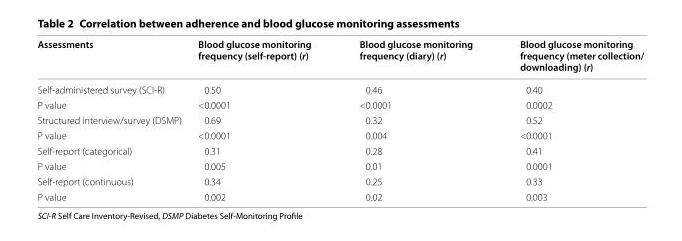table: (36, 37, 643, 202)
table column: (334, 37, 495, 202), (36, 37, 189, 202), (495, 37, 643, 202), (189, 37, 334, 202)
table column header: (36, 37, 643, 77)
table row: (36, 37, 643, 77), (36, 77, 643, 96), (36, 96, 643, 112), (36, 142, 643, 158), (36, 112, 643, 127), (36, 127, 643, 142), (36, 158, 643, 173), (36, 173, 643, 188), (36, 188, 643, 202)
